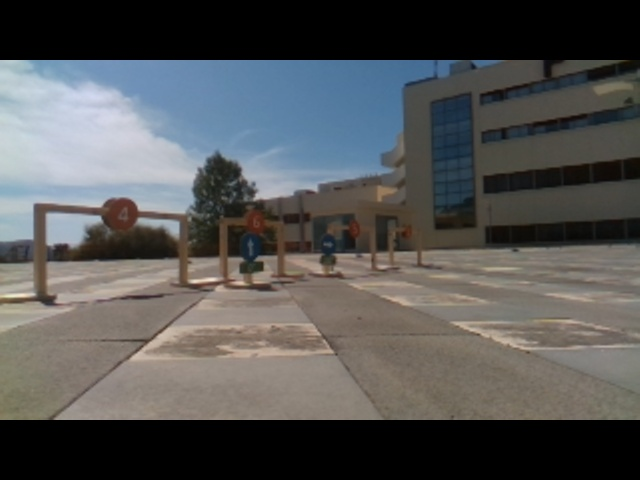0_degree: (239, 262, 267, 272)
arrow_right: (318, 232, 338, 253)
arrow_up: (237, 234, 262, 259)
checkpoint_foot: (3, 282, 52, 306), (172, 275, 207, 289)
checkpoint_side: (29, 202, 52, 293), (176, 207, 191, 286), (217, 217, 231, 276), (275, 222, 288, 272), (367, 226, 380, 266)
checkpoint_signal: (32, 200, 192, 224), (214, 216, 287, 229), (325, 222, 378, 234)
four: (107, 198, 140, 230)
six: (243, 210, 267, 232)
